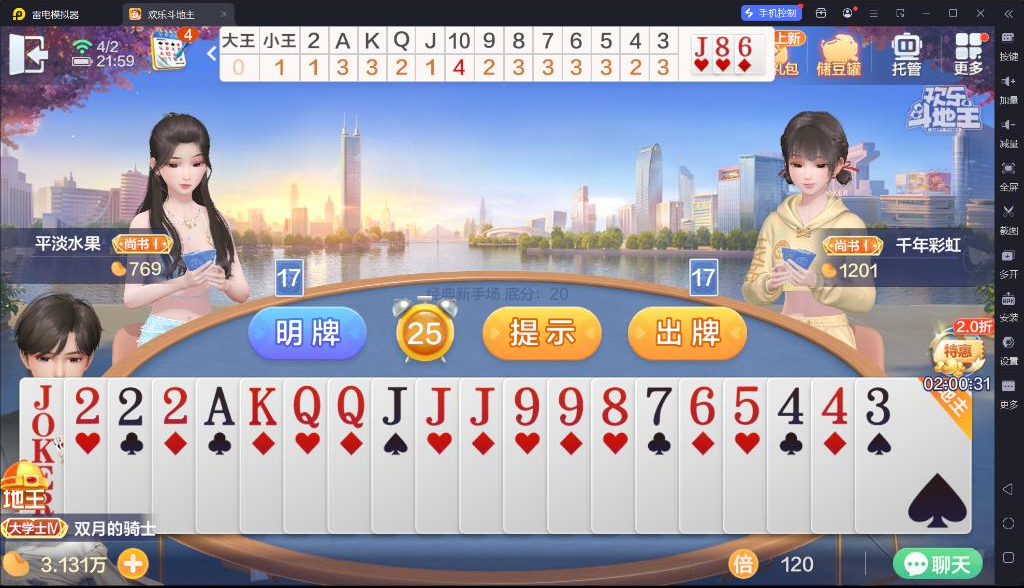A: (202, 383, 238, 429)
J: (377, 383, 409, 428), (466, 383, 497, 428), (420, 384, 451, 428), (693, 35, 710, 58)
JOKER: (28, 381, 60, 471)
K: (245, 384, 279, 428)
Q: (332, 382, 366, 430), (289, 384, 323, 431)
eight: (598, 383, 630, 428), (715, 36, 731, 57)
five: (729, 383, 761, 426)
four: (817, 384, 851, 426), (773, 384, 806, 426)
nine: (509, 382, 540, 428), (554, 383, 584, 428)
seven: (643, 383, 673, 428)
six: (685, 381, 717, 427), (737, 35, 754, 57)
three: (861, 384, 892, 427)
two: (113, 381, 147, 427), (158, 384, 191, 427), (71, 382, 103, 426)
